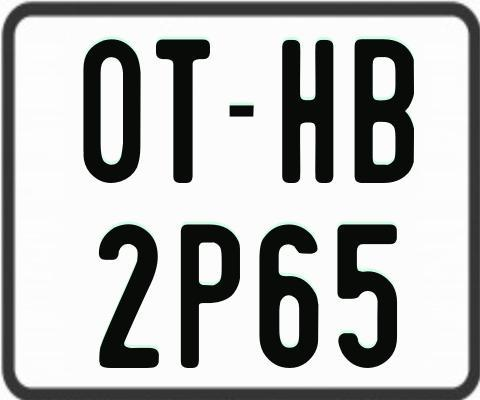0: (82, 36, 144, 180)
2: (98, 221, 164, 368)
5: (337, 222, 398, 366)
6: (259, 224, 318, 370)
B: (355, 39, 419, 186)
H: (279, 37, 335, 186)
P: (179, 223, 243, 369)
T: (153, 39, 210, 183)
